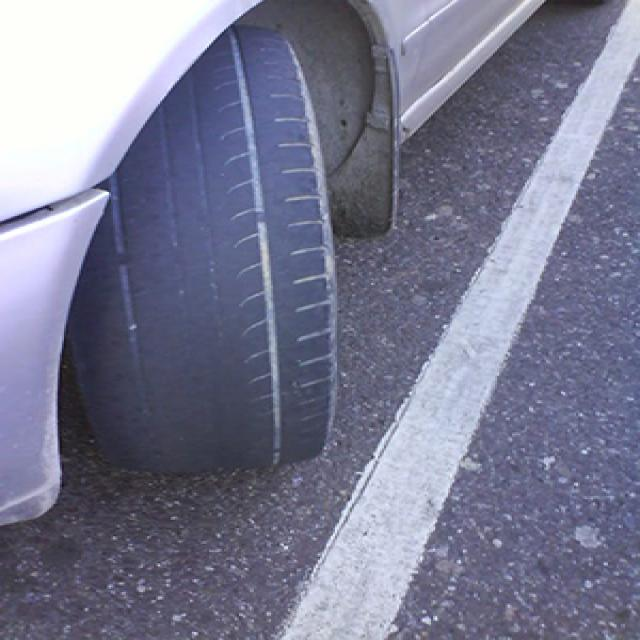Flat spots: (123, 110, 298, 482)
